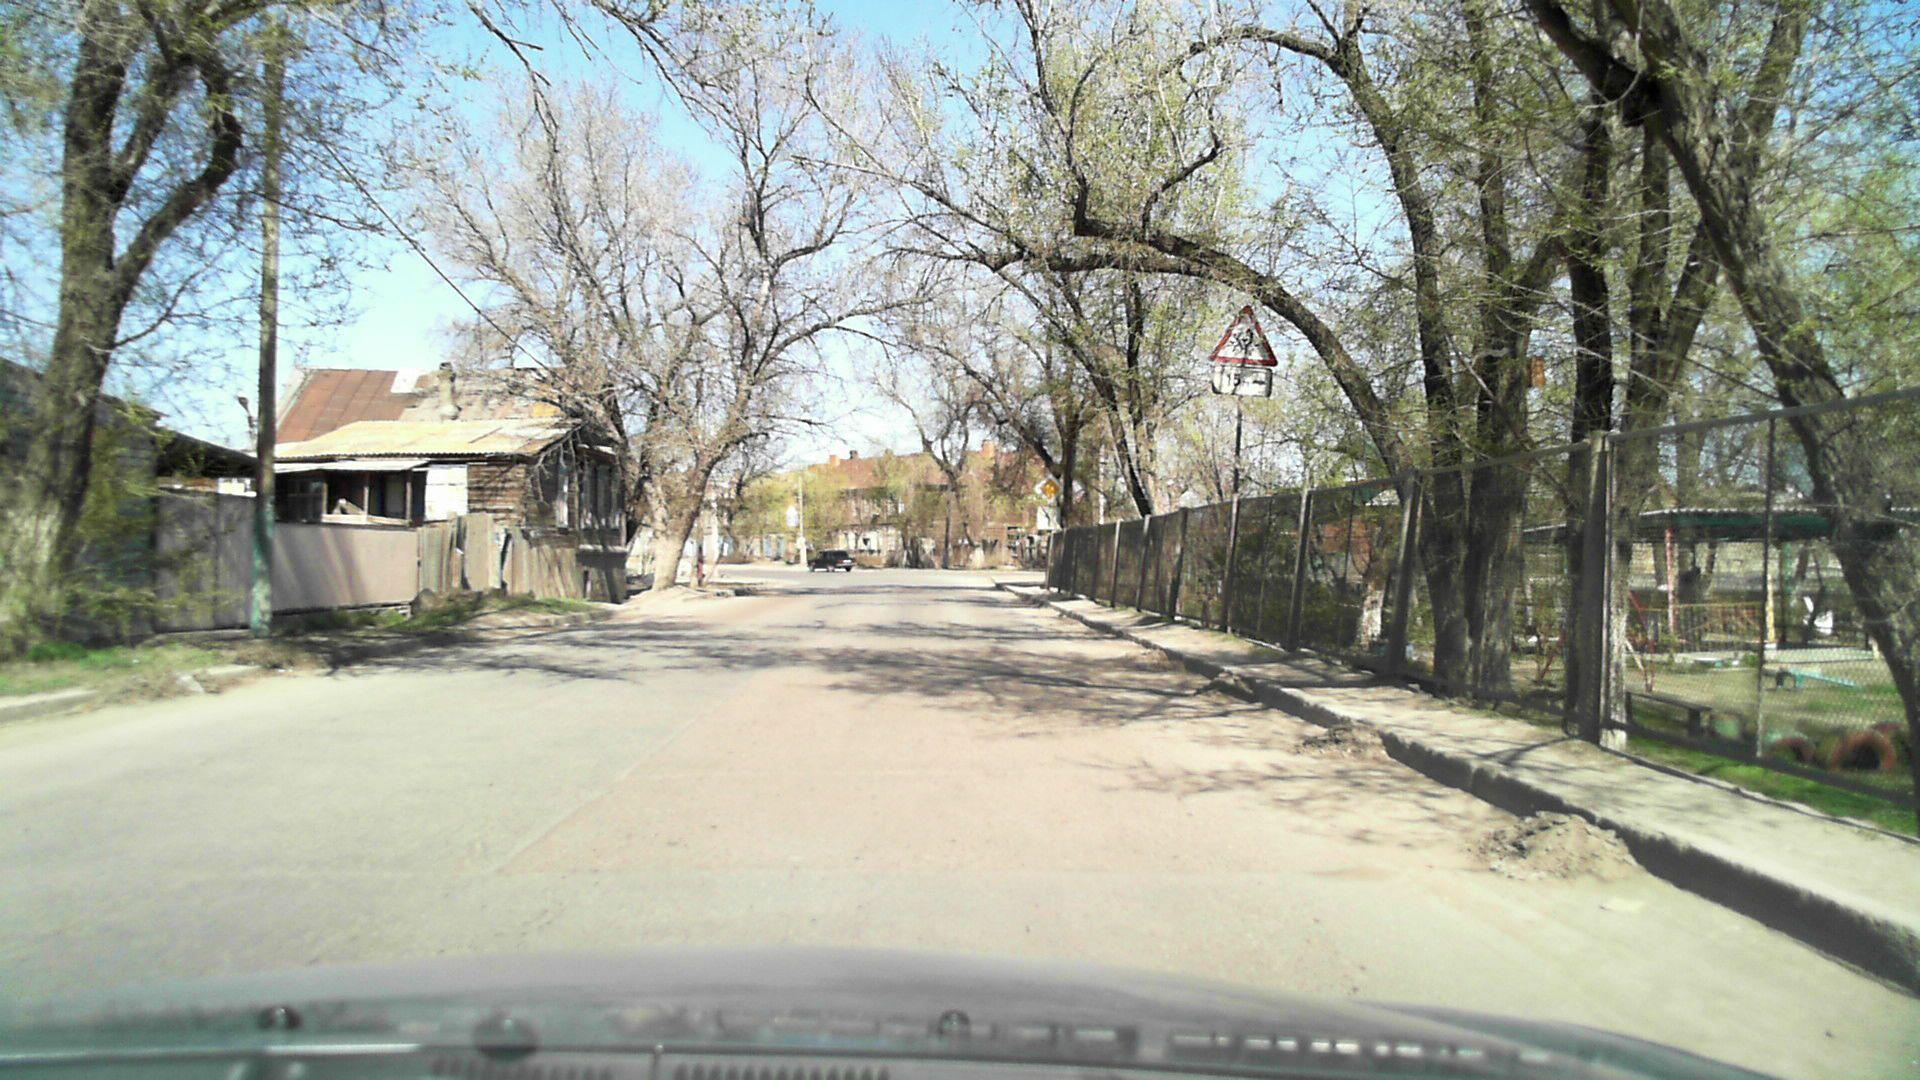1_23: (1207, 298, 1276, 368)
2_1: (1033, 471, 1062, 501)
8_13: (1035, 504, 1060, 529)
8_1_3: (1215, 367, 1273, 396)
